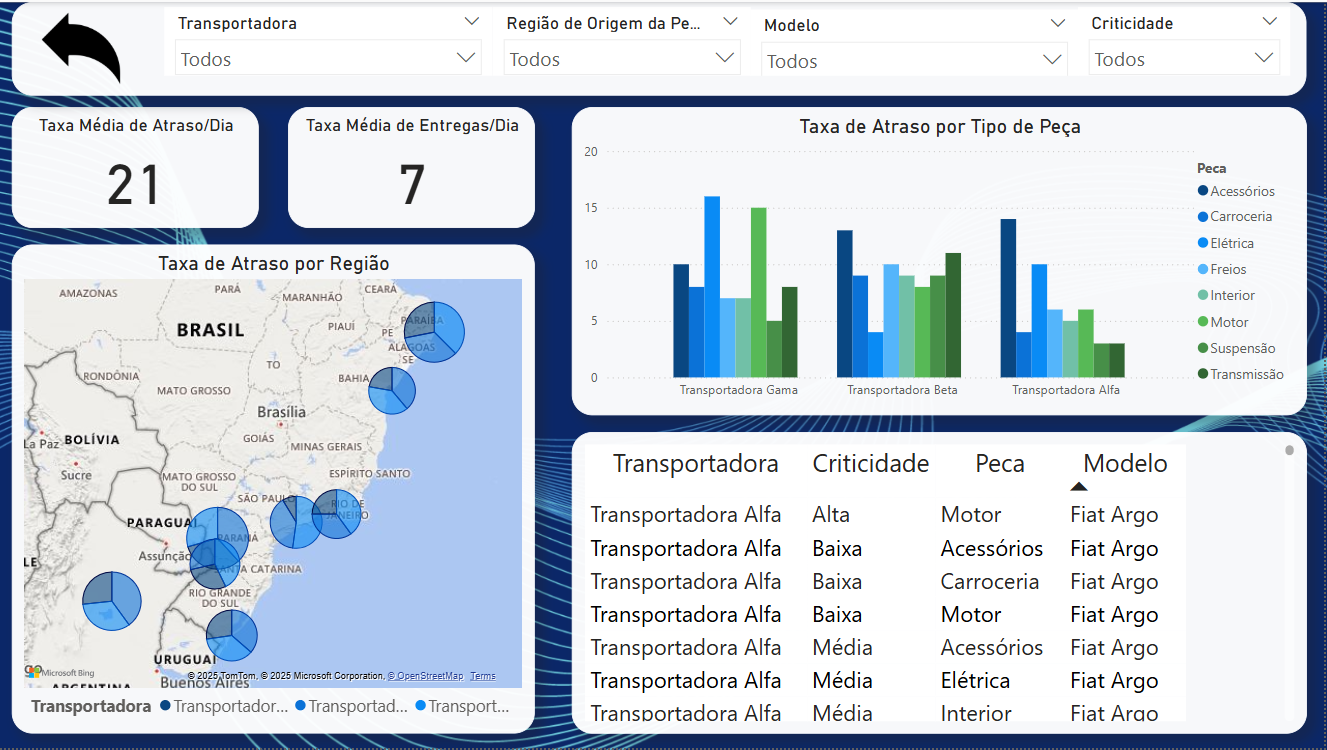

The dashboard page shown, as its layout file describes it:
{"tool":"powerbi","page":{"name":"Logistica","canvas":[1280,720],"ordinal":1},"visuals":[{"type":"card","title":"Taxa Média de Atraso/Dia","fields":{"Values":["Logistica.Taxa Média de Atraso"]},"box":[13.5,101.6,238.7,116.8],"z":0},{"type":"actionButton","box":[13.5,0,1249.5,90],"z":1000},{"type":"card","title":"Taxa Média de Entregas/Dia","fields":{"Values":["Logistica.Taxa Média de Entrega"]},"box":[279.4,101.6,238.7,116.8],"z":2000},{"type":"clusteredColumnChart","title":"Taxa de Atraso por Tipo de Peça","fields":{"Category":["Logistica.Transportadora"],"Series":["Logistica.Peca"],"Y":["CountNonNull(Logistica.Taxa_Atraso)"]},"box":[553.7,101.6,709.4,298],"z":3000},{"type":"map","title":"Taxa de Atraso por Região","fields":{"Category":["Logistica.Regiao_Origem"],"Size":["CountNonNull(Logistica.Taxa_Atraso)"],"Series":["Logistica.Transportadora"]},"box":[13.5,233.7,504.6,472.4],"z":4000},{"type":"tableEx","fields":{"Values":["Logistica.Transportadora","Logistica.Criticidade","Logistica.Peca","Logistica.Modelo_Carro"]},"box":[553.7,414.8,709.4,291.2],"z":5000},{"type":"slicer","fields":{"Values":["Logistica.Transportadora"]},"box":[160.8,5.1,316.6,66],"z":7000},{"type":"slicer","fields":{"Values":["Logistica.Regiao_Origem"]},"box":[477.5,5.1,248.9,66],"z":8000},{"type":"slicer","fields":{"Values":["Logistica.Criticidade"]},"box":[1043,5.1,204.9,66],"z":9000},{"type":"slicer","fields":{"Values":["Manutenção e Pós Vendas.Modelo_Carro"]},"box":[726.3,6.8,316.6,64.3],"z":10000},{"type":"image","box":[27.7,0,105,90.5],"z":10001}]}

Visuals, with their boxes in screenshot pixels (x1, y1, x2, y2), scaled from the page's 1280x720 canvas onto the 1327x750 screenshot:
"Taxa Média de Atraso/Dia" card: box=[14, 106, 261, 228]
actionButton: box=[14, 0, 1309, 94]
"Taxa Média de Entregas/Dia" card: box=[290, 106, 537, 228]
"Taxa de Atraso por Tipo de Peça" clusteredColumnChart: box=[574, 106, 1309, 416]
"Taxa de Atraso por Região" map: box=[14, 243, 537, 736]
tableEx - Logistica.Transportadora x Logistica.Criticidade: box=[574, 432, 1309, 735]
slicer - Logistica.Transportadora: box=[167, 5, 495, 74]
slicer - Logistica.Regiao_Origem: box=[495, 5, 753, 74]
slicer - Logistica.Criticidade: box=[1081, 5, 1294, 74]
slicer - Manutenção e Pós Vendas.Modelo_Carro: box=[753, 7, 1081, 74]
image: box=[29, 0, 138, 94]
